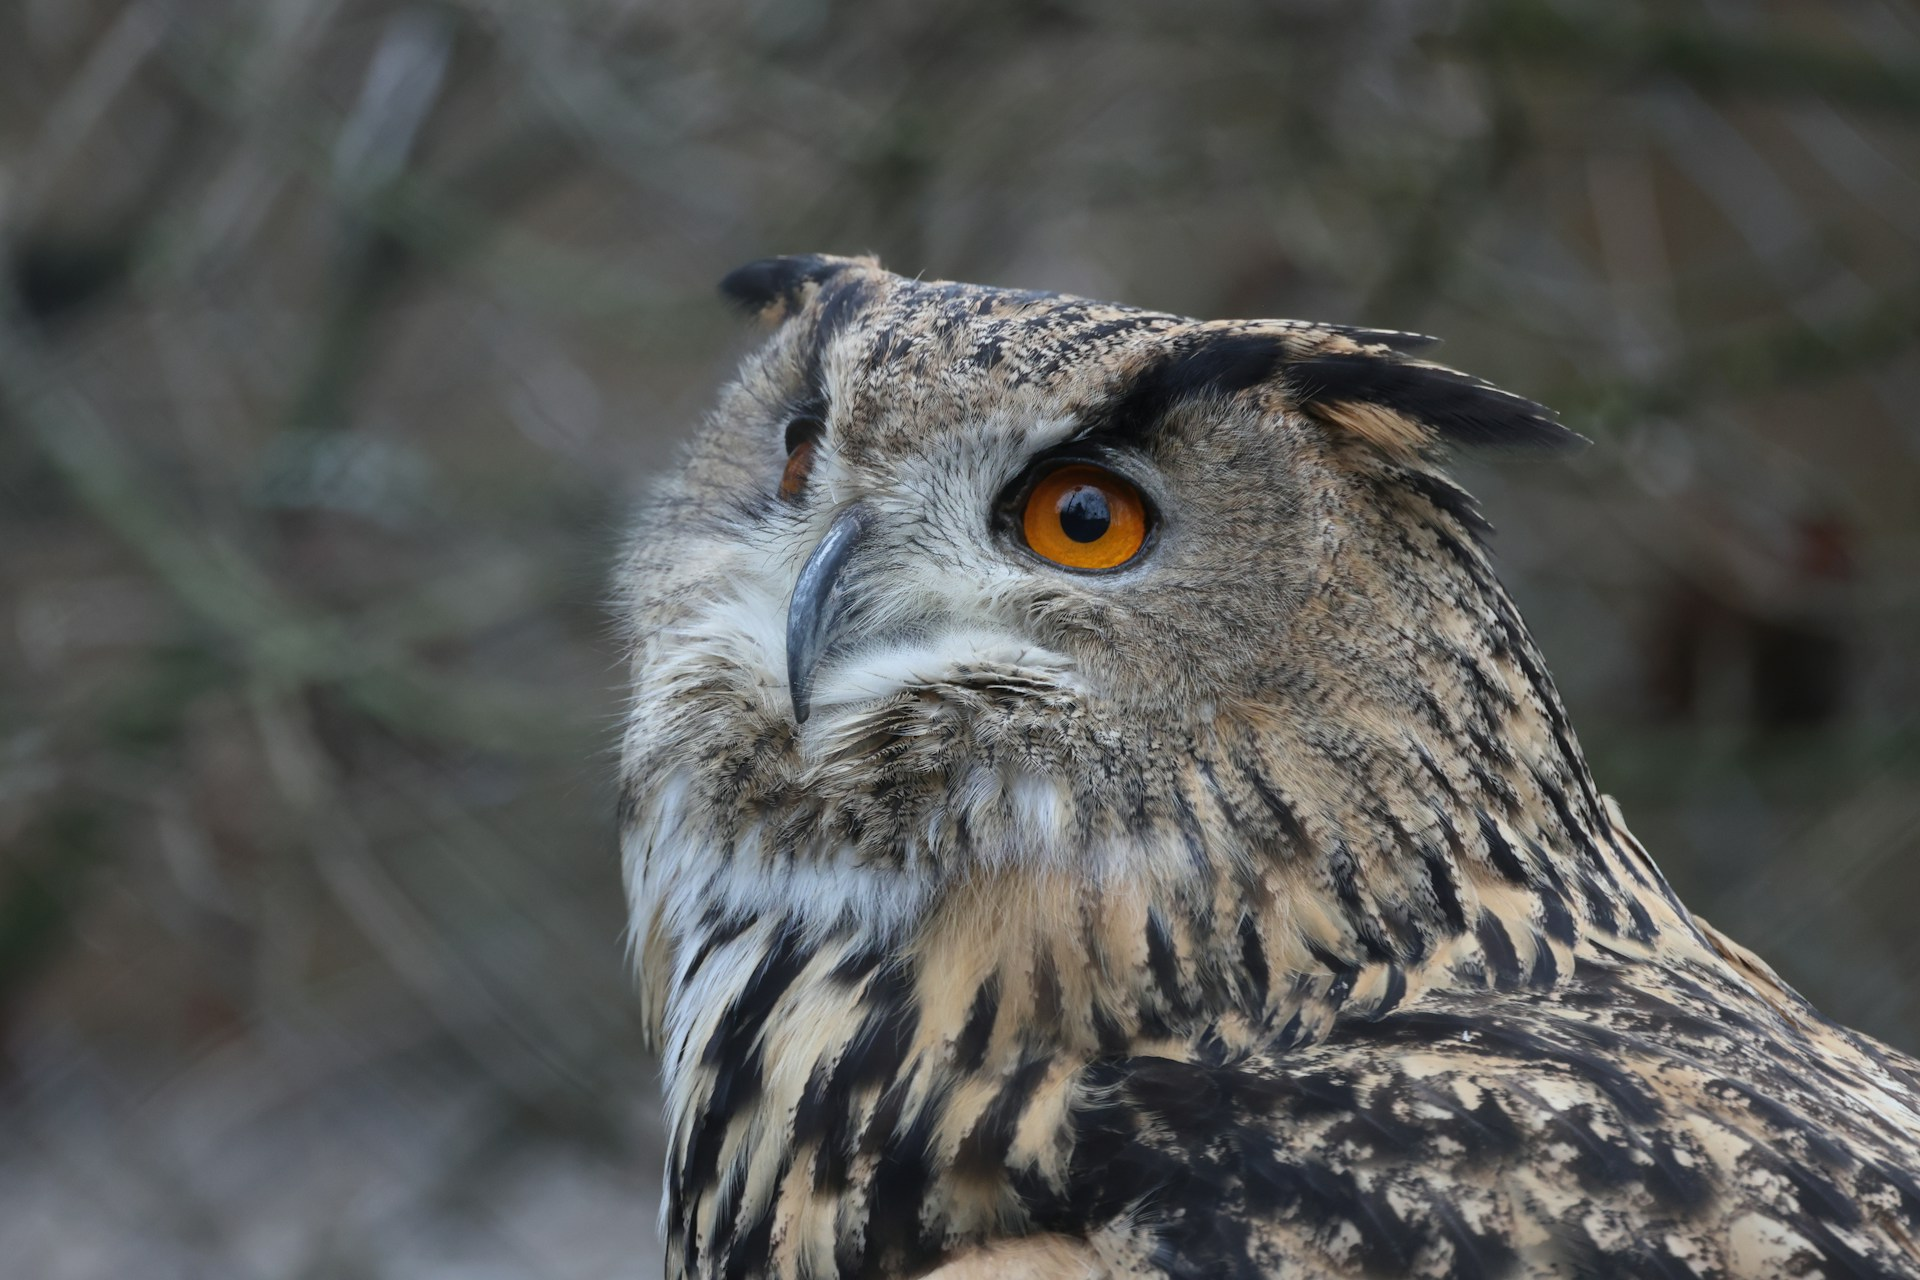owl: (563, 234, 1920, 1280)
